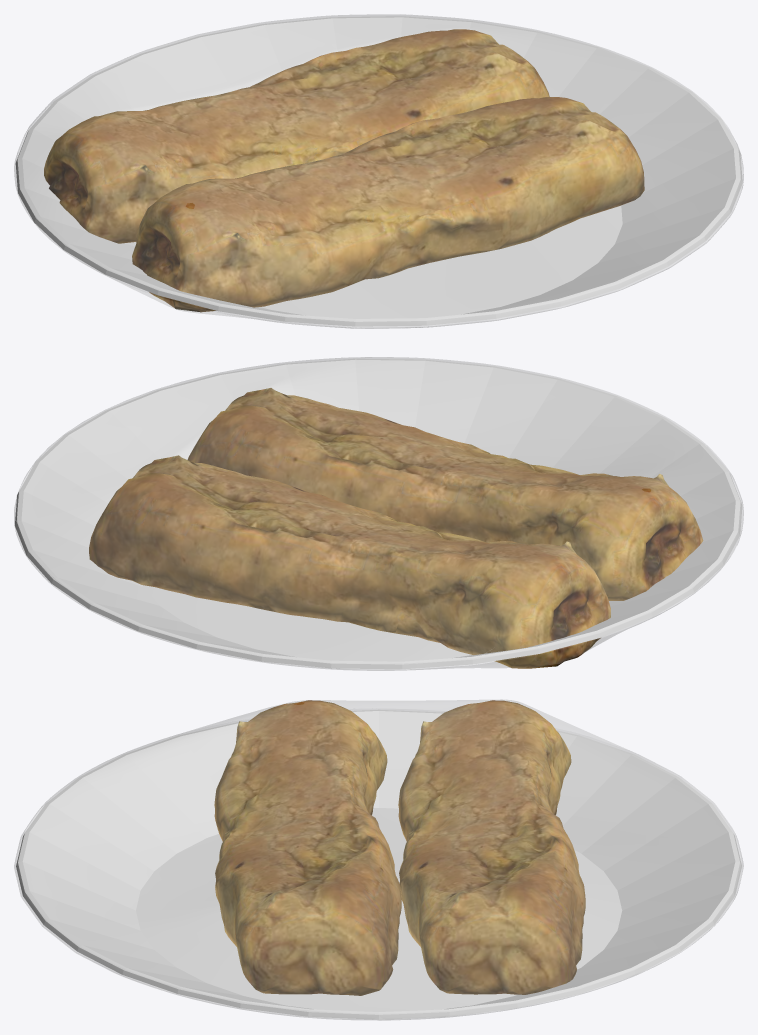
Rendered from leftovers.glb.
3 renders of one model, top to bottom at view 1: azimuth 30°, elevation 25°; view 2: azimuth 150°, elevation 25°; view 3: azimuth 270°, elevation 25°, orthographic.
Parts seen in each view (by area): view 1: Wrap.002, 3DModel_Retopo.002; view 2: Wrap.002, 3DModel_Retopo.002; view 3: Wrap.002, 3DModel_Retopo.002.
Part boxes in pixels (x1,y1,x2,y2): Wrap.002: (14, 14, 743, 328); 3DModel_Retopo.002: (15, 16, 742, 326); Wrap.002: (14, 357, 743, 670); 3DModel_Retopo.002: (15, 358, 742, 669); Wrap.002: (14, 699, 743, 1020); 3DModel_Retopo.002: (16, 700, 741, 1019).
Bounding box in the file's own units: 0.8377 × 0.1368 × 0.8417.
2 materials, 1 textured.
